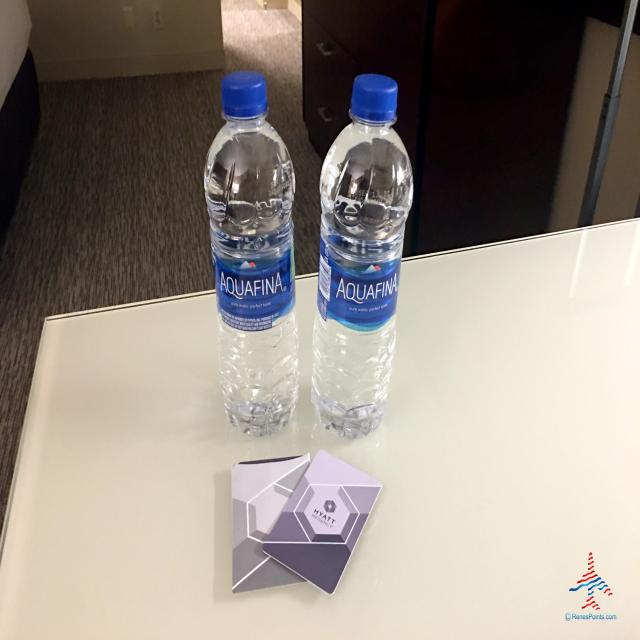plastic: (309, 65, 416, 448), (204, 69, 302, 441)
